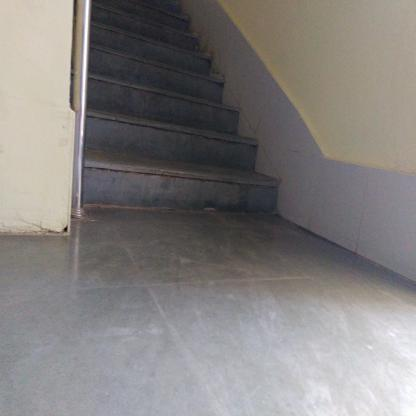stairs: (94, 32, 200, 219)
